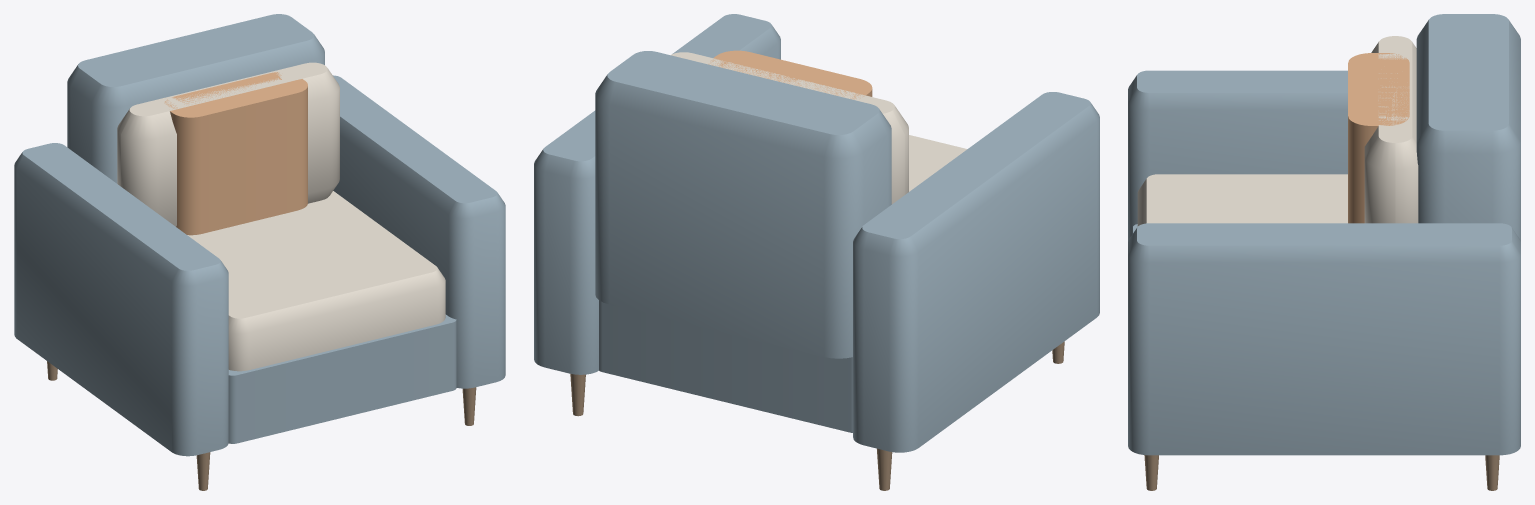
3 views of the same model, side by side, from view 1: azimuth 30°, elevation 25°; view 2: azimuth 150°, elevation 25°; view 3: azimuth 270°, elevation 25° (orthographic). The views are drawn at different scales.
Parts seen in each view (by area): view 1: Ghế đơn Rộng=900; Sâu=850; view 2: Ghế đơn Rộng=900; Sâu=850; view 3: Ghế đơn Rộng=900; Sâu=850.
Boxes of the visible parts, x1,y1,x2,y2 form: Ghế đơn Rộng=900; Sâu=850: [14, 14, 505, 490]; Ghế đơn Rộng=900; Sâu=850: [534, 14, 1099, 490]; Ghế đơn Rộng=900; Sâu=850: [1128, 14, 1520, 490].
Size of the model in its own units: 0.914 by 0.8 by 0.83.
